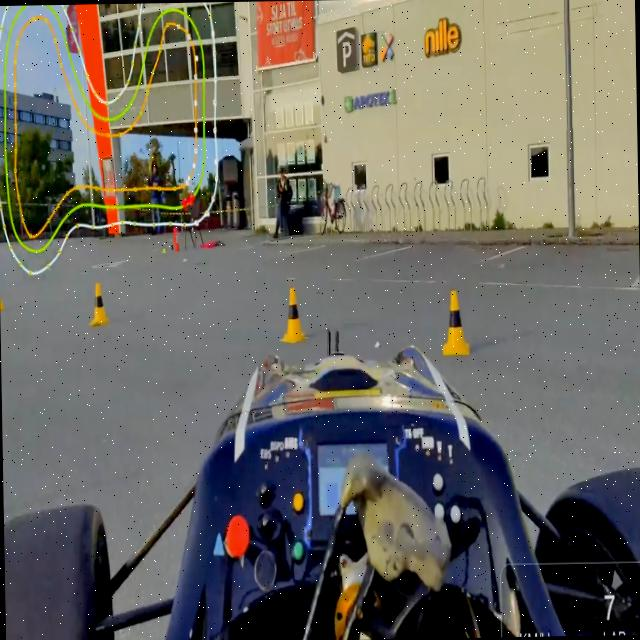yellow_cone: (434, 288, 471, 360), (276, 280, 311, 354), (84, 277, 114, 333), (0, 263, 12, 314)
